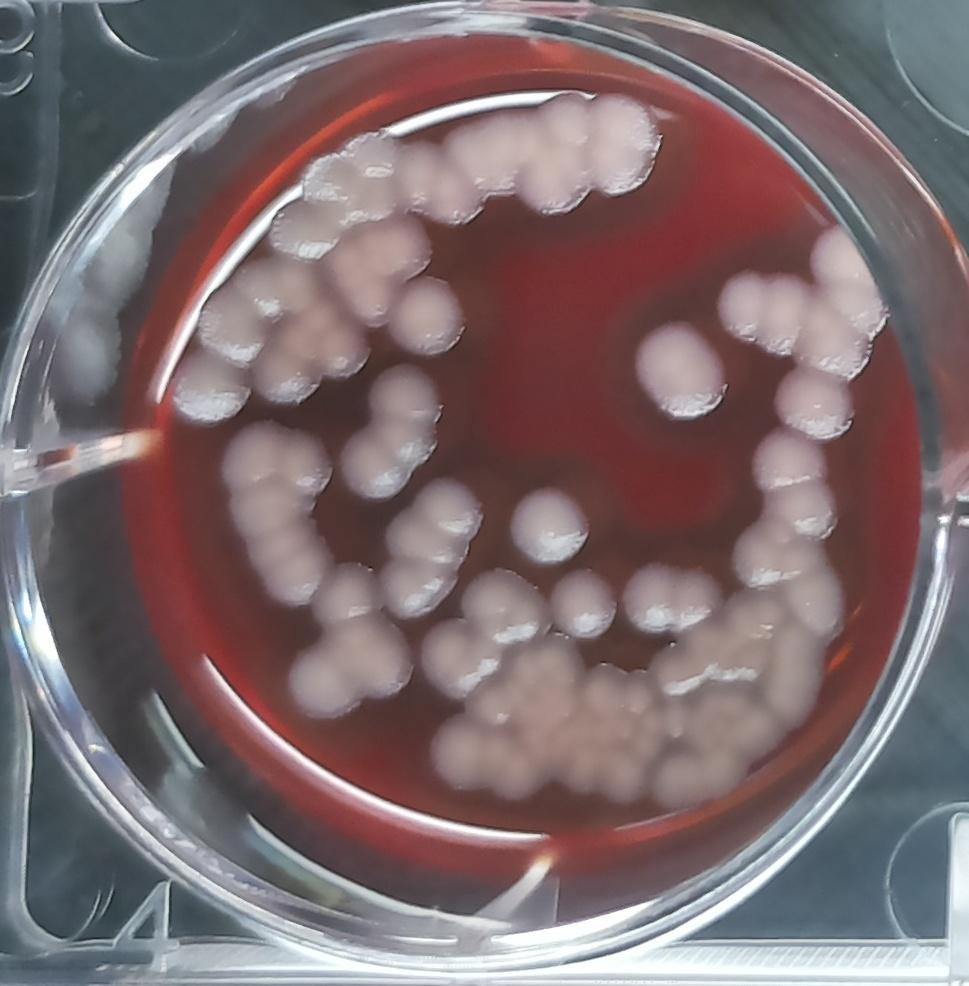bcereus: (402, 77, 679, 231), (714, 262, 880, 380), (371, 462, 486, 623), (621, 300, 741, 438), (618, 537, 722, 641), (501, 470, 598, 572), (765, 355, 867, 447), (383, 269, 475, 366)
